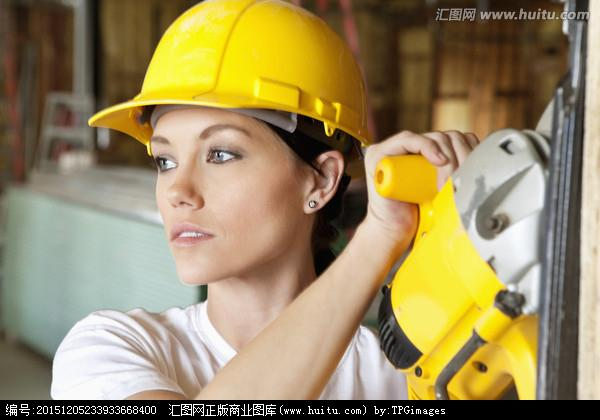helmet: (92, 1, 375, 148)
